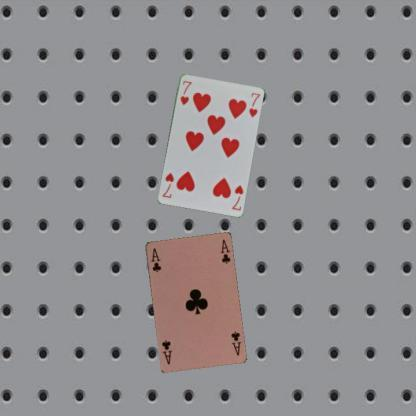7h: (177, 78, 193, 106), (230, 182, 244, 212)
Ac: (228, 328, 242, 358), (148, 246, 162, 273)
